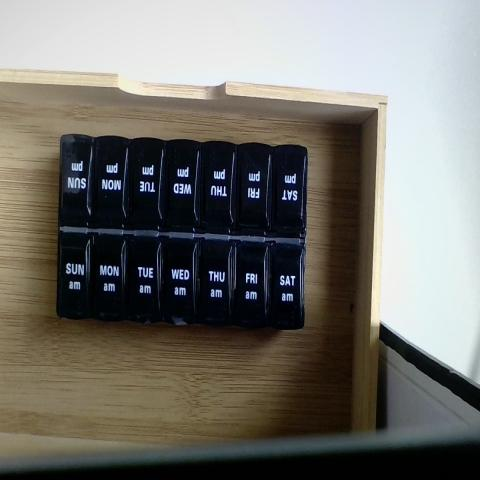FRI-am: (234, 240, 267, 328)
FRI-pm: (234, 143, 268, 235)
MON-am: (90, 238, 125, 325)
MON-pm: (96, 137, 128, 228)
SAT-am: (267, 240, 305, 326)
SAT-pm: (270, 146, 305, 236)
SUN-am: (58, 235, 90, 321)
SUN-pm: (61, 133, 94, 224)
THU-am: (197, 234, 233, 326)
THU-pm: (198, 143, 232, 234)
TUE-am: (126, 237, 160, 326)
TUE-pm: (129, 137, 163, 230)
WED-am: (164, 234, 196, 329)
WED-pm: (165, 141, 197, 231)
